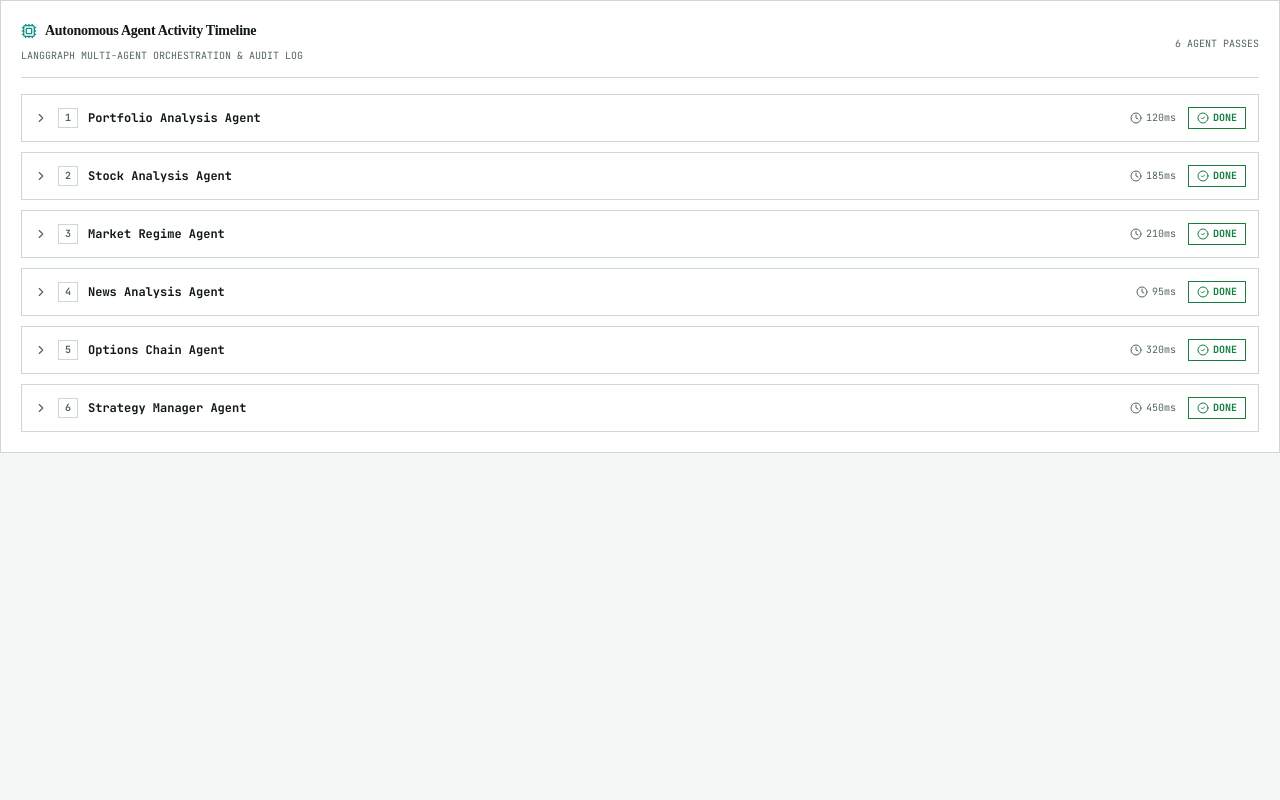
Test case: AgentActivity Component (P3-FE-3, P3-FE-4) › expands run details when clicked to reveal outputs and duration
The width and height of the screenshot is (1280, 800).
Click the element showing "1 Portfolio Analysis Agent 120ms DONE".
click(174, 118)  # box [34,107,1246,129]
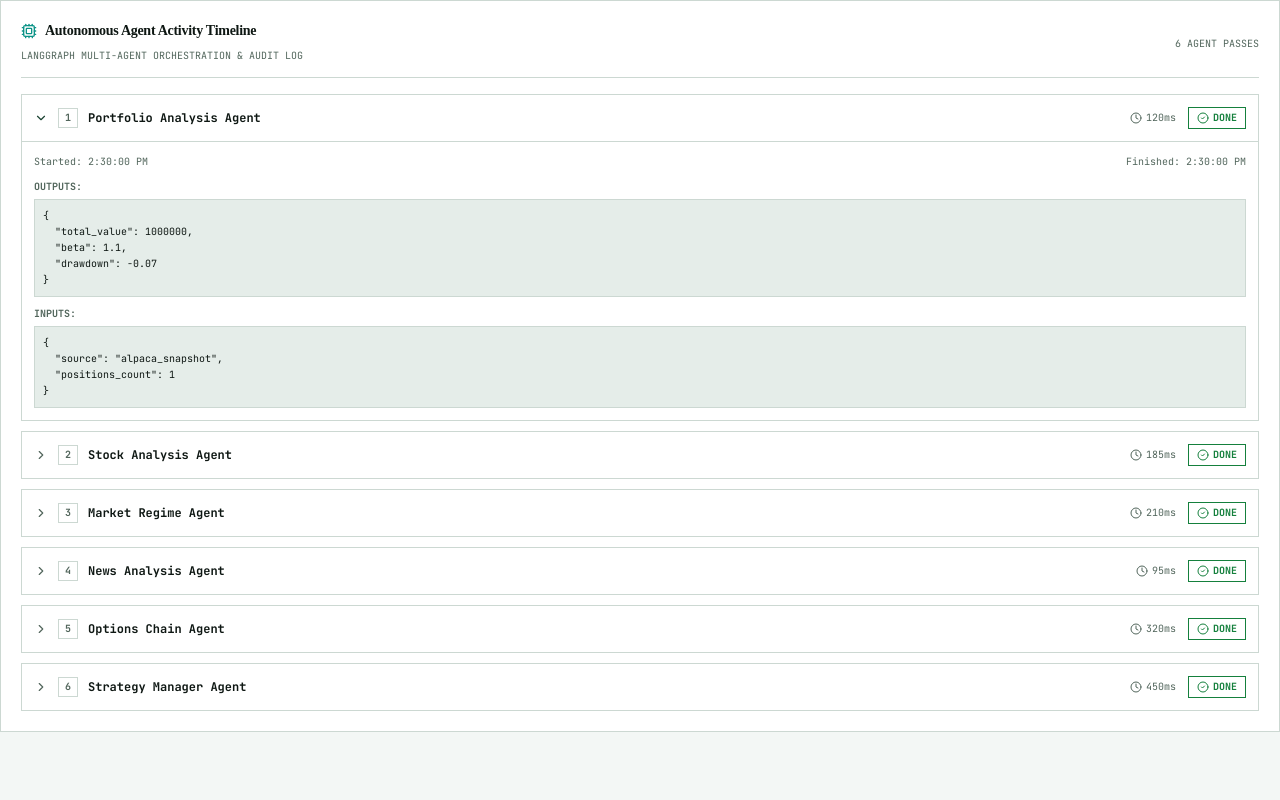
expect the text "Outputs:" is shown: met, box [34,180,82,193]
